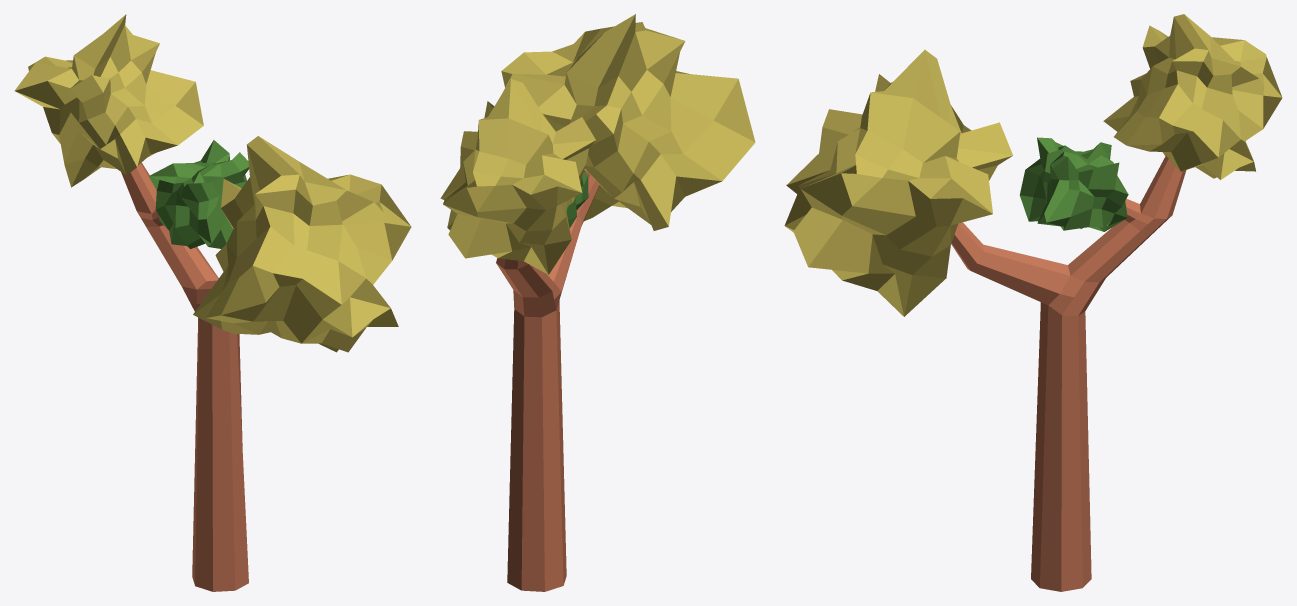
Rendered from Tree_03_autumn_vc.fbx.
3 renders of one model, left to right at view 1: azimuth 30°, elevation 25°; view 2: azimuth 150°, elevation 25°; view 3: azimuth 270°, elevation 25°, orthographic. The views are drawn at different scales.
Visible parts, largest first — view 1: Tree_03_autumn_vc; view 2: Tree_03_autumn_vc; view 3: Tree_03_autumn_vc.
Part boxes in pixels (bbox=[...]): Tree_03_autumn_vc: bbox=[14, 14, 411, 591]; Tree_03_autumn_vc: bbox=[440, 14, 755, 591]; Tree_03_autumn_vc: bbox=[784, 14, 1282, 591].
Bounding box in the file's own units: 77.81 × 178 × 146.
